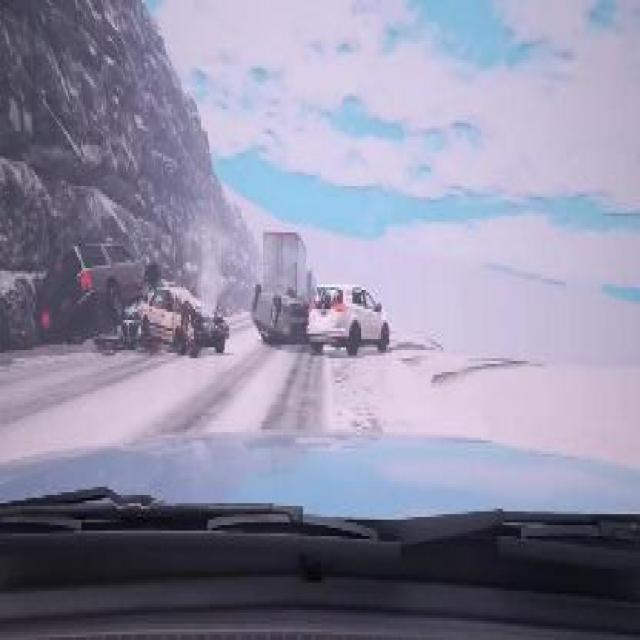accident: (32, 240, 230, 362), (246, 280, 394, 360)
